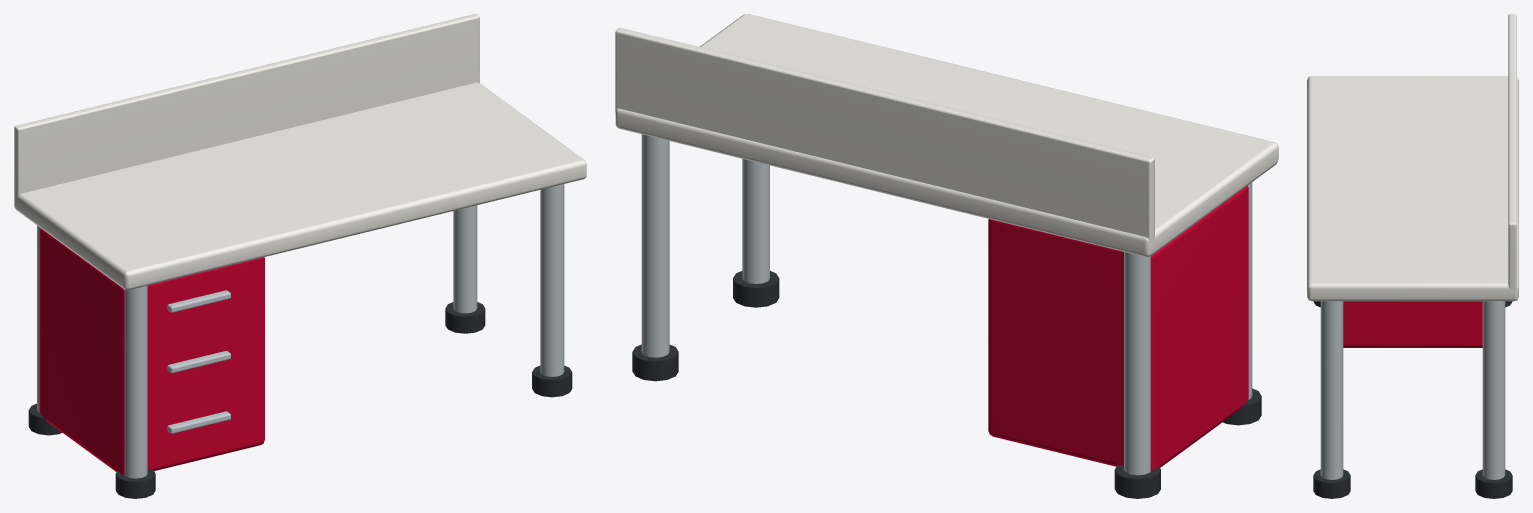
File: Lab_Bench_2m.fbx
3 views of the same model, side by side, from view 1: azimuth 30°, elevation 25°; view 2: azimuth 150°, elevation 25°; view 3: azimuth 270°, elevation 25° (orthographic). The views are drawn at different scales.
Visible parts, largest first — view 1: Lab_Bench_2m_White, Lab_Bench_2m_Red, Lab_Bench_2m_Steel, Lab_Bench_2m_Rubber; view 2: Lab_Bench_2m_White, Lab_Bench_2m_Red, Lab_Bench_2m_Steel, Lab_Bench_2m_Rubber; view 3: Lab_Bench_2m_White, Lab_Bench_2m_Steel, Lab_Bench_2m_Red, Lab_Bench_2m_Rubber.
Part boxes in pixels (x1,y1,x2,y2): Lab_Bench_2m_White: (14, 14, 586, 289); Lab_Bench_2m_Red: (40, 228, 264, 474); Lab_Bench_2m_Steel: (37, 184, 564, 478); Lab_Bench_2m_Rubber: (28, 302, 572, 498); Lab_Bench_2m_White: (615, 14, 1278, 256); Lab_Bench_2m_Red: (988, 185, 1248, 470); Lab_Bench_2m_Steel: (641, 134, 1252, 475); Lab_Bench_2m_Rubber: (632, 271, 1261, 498); Lab_Bench_2m_White: (1307, 14, 1518, 301); Lab_Bench_2m_Steel: (1320, 301, 1505, 479); Lab_Bench_2m_Red: (1343, 301, 1482, 347); Lab_Bench_2m_Rubber: (1313, 301, 1512, 498).
Bounding box in the file's own units: 200 × 123 × 85.
